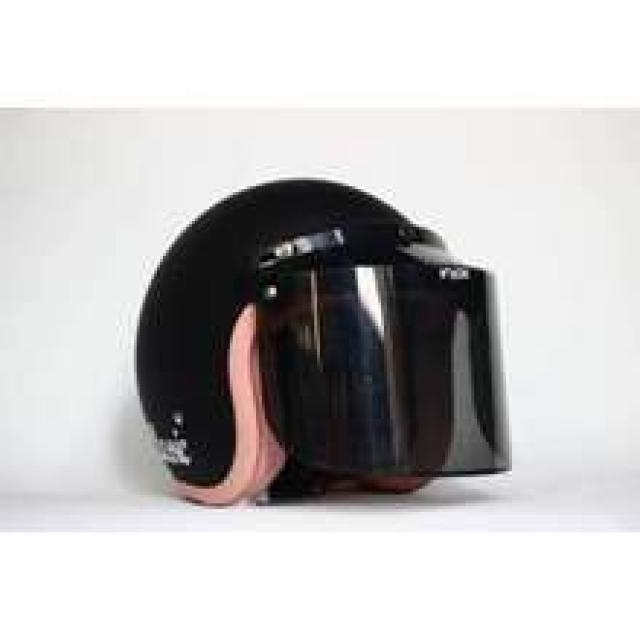Helm: (126, 166, 520, 501)
